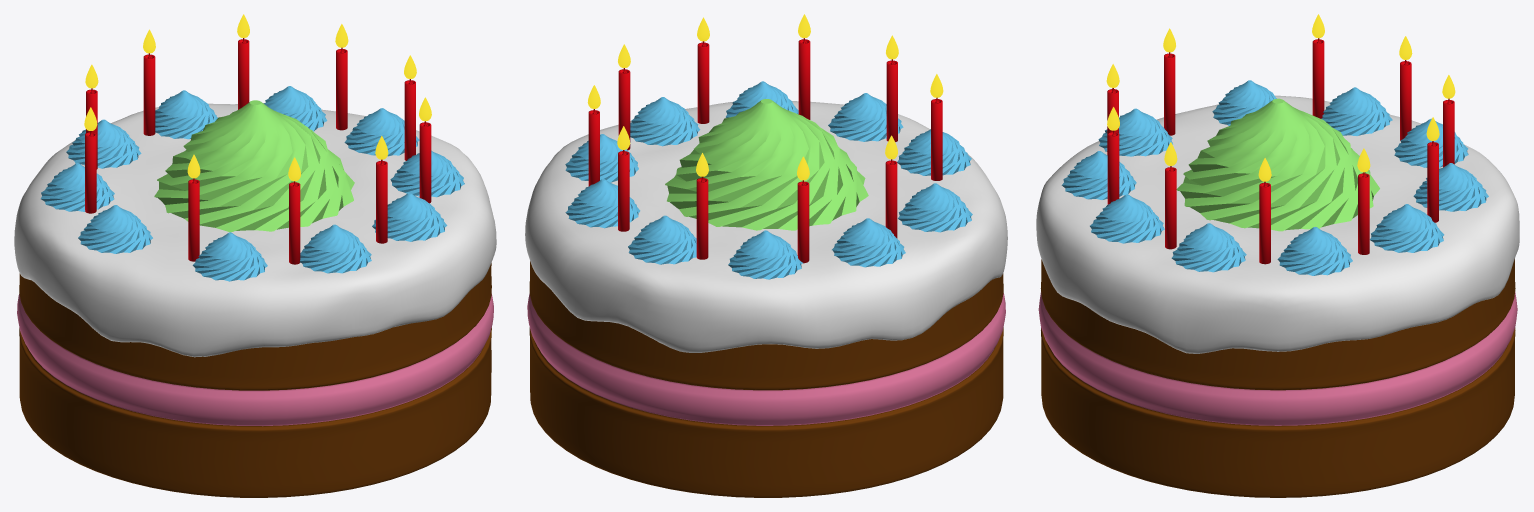
The model's file is cake.glb.
The picture shows the model from 3 angles, left to right: view 1: azimuth 30°, elevation 25°; view 2: azimuth 150°, elevation 25°; view 3: azimuth 270°, elevation 25°; orthographic projection.
Parts seen in each view (by area): view 1: cake; view 2: cake; view 3: cake.
Part boxes in pixels (x1,y1,x2,y2): cake: (14, 14, 496, 497); cake: (525, 14, 1007, 497); cake: (1036, 14, 1519, 497).
Bounding box in the file's own units: 2.03 × 1.45 × 2.03.
